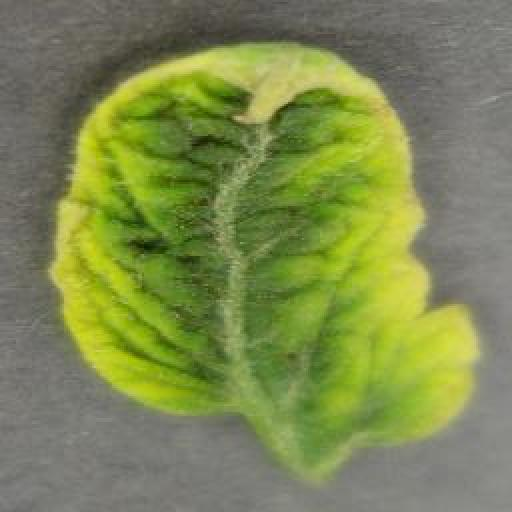disease_tomato: (50, 38, 483, 478)
